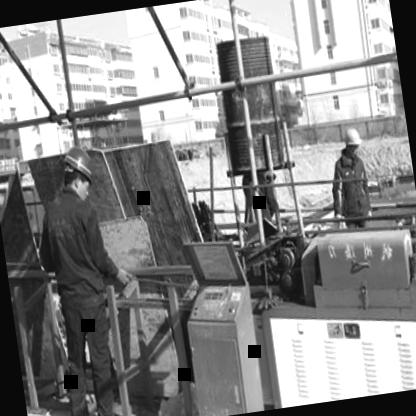helmet: (56, 142, 100, 204), (338, 120, 366, 163)
